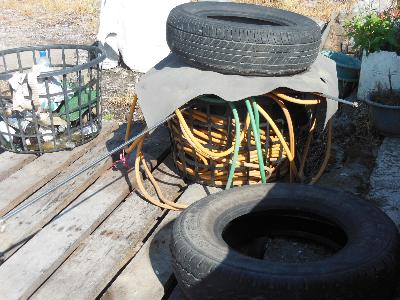tire: (171, 181, 400, 299), (165, 2, 323, 78)
